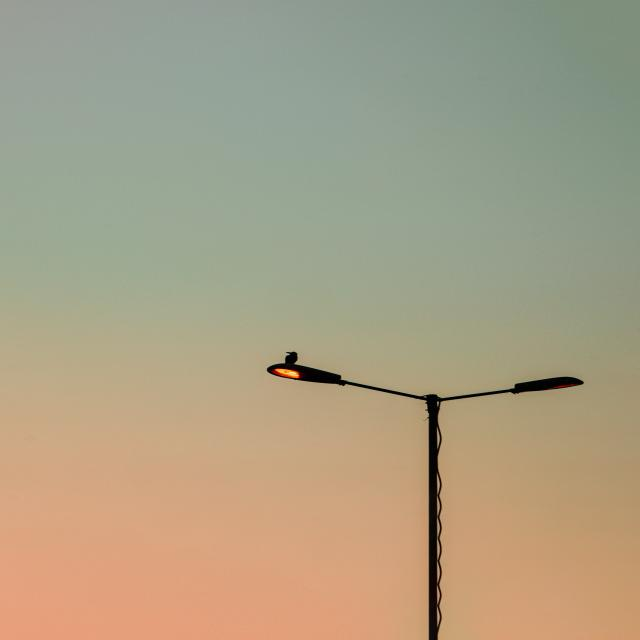Street Light: (264, 363, 582, 640)
